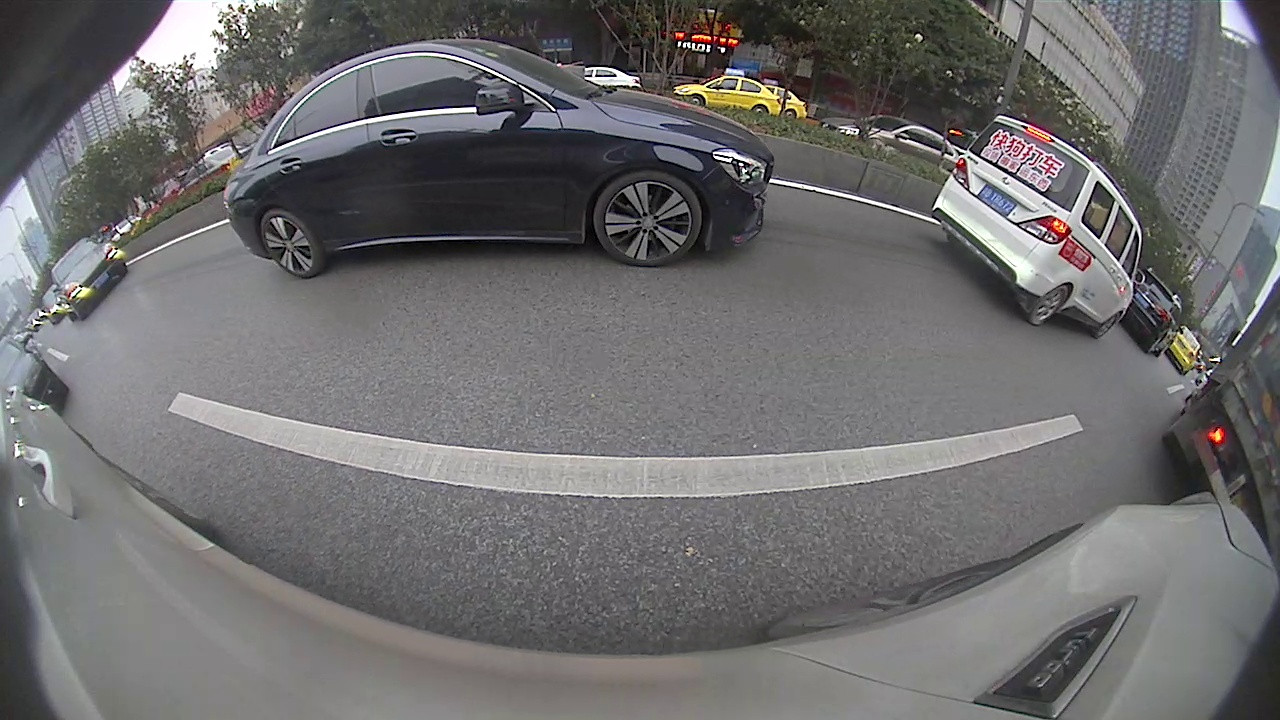car: (225, 37, 773, 279), (929, 110, 1140, 339), (48, 238, 131, 319), (1120, 275, 1181, 356), (1167, 327, 1203, 375)
front: (596, 173, 703, 267), (1095, 312, 1123, 339), (690, 93, 706, 110)
rear: (258, 212, 322, 279), (1027, 286, 1072, 328), (751, 104, 768, 119), (784, 108, 797, 121)
